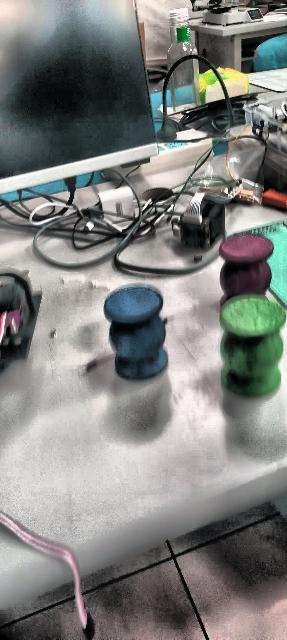blue: (104, 286, 168, 380)
green: (210, 294, 287, 396)
red: (214, 236, 273, 292)
